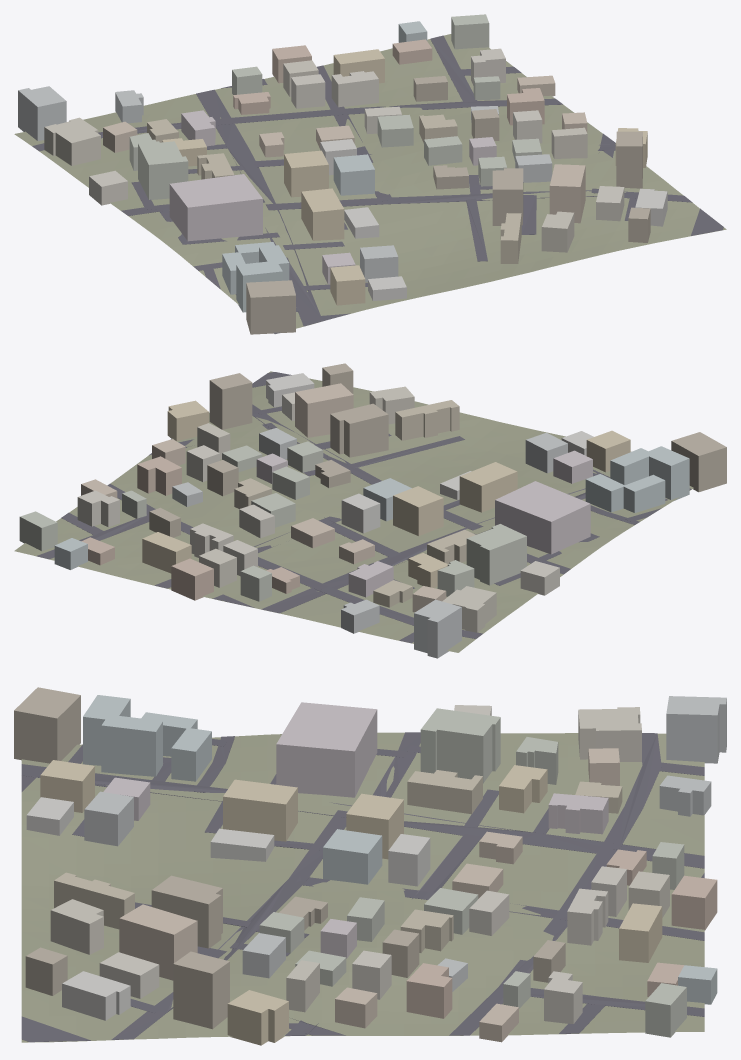
Rendered from chunk_3_3.glb.
3 views of the same model, one above another, from view 1: azimuth 30°, elevation 25°; view 2: azimuth 150°, elevation 25°; view 3: azimuth 270°, elevation 25° (orthographic). The views are drawn at different scales.
Visible parts, largest first — view 1: geometry_64, geometry_30, geometry_65, geometry_0, geometry_16, geometry_48, geometry_56, geometry_7, geometry_22, geometry_21, geometry_13, geometry_91 (+56 smaller); view 2: geometry_64, geometry_30, geometry_16, geometry_13, geometry_26, geometry_14, geometry_56, geometry_22, geometry_0, geometry_33, geometry_7, geometry_21 (+56 smaller); view 3: geometry_64, geometry_30, geometry_13, geometry_16, geometry_0, geometry_22, geometry_65, geometry_56, geometry_33, geometry_7, geometry_68, geometry_26 (+61 smaller).
Boxes of the visible parts, x1,y1,x2,y2 form: geometry_64: (14,34,726,334); geometry_30: (169,174,262,241); geometry_65: (196,89,322,326); geometry_0: (246,280,295,334); geometry_16: (138,141,188,199); geometry_48: (44,117,100,165); geometry_56: (18,86,66,140); geometry_7: (301,188,344,240); geometry_22: (549,164,585,223); geometry_21: (284,150,328,197); geometry_13: (236,245,289,312); geometry_91: (221,98,562,124); geometry_64: (14,371,693,652); geometry_30: (495,481,590,554); geometry_16: (466,524,526,585); geometry_13: (610,446,689,500); geometry_26: (330,403,388,457); geometry_14: (585,474,665,512); geometry_56: (414,599,461,658); geometry_22: (295,383,353,437); geometry_0: (671,432,726,492); geometry_33: (209,373,252,429); geometry_7: (459,462,517,512); geometry_21: (393,486,443,536); geometry_64: (21,732,704,1042); geometry_30: (276,702,377,797); geometry_13: (83,695,162,776); geometry_16: (420,708,500,783); geometry_0: (14,687,80,763); geometry_22: (119,904,197,980); geometry_65: (21,764,704,868); geometry_56: (666,696,726,763); geometry_33: (173,951,229,1029); geometry_7: (223,779,297,841); geometry_68: (111,810,347,1039); geometry_26: (151,875,222,948).
Bounding box in the file's own units: 267 × 26.84 × 261.
